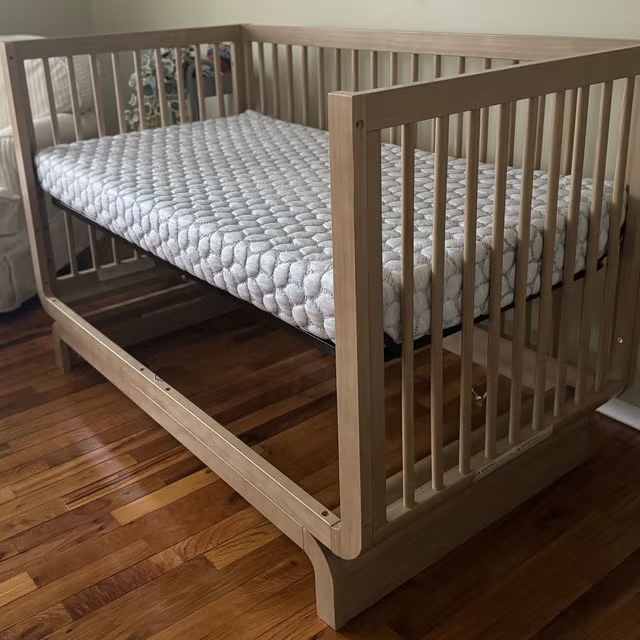crib: (0, 22, 640, 630)
